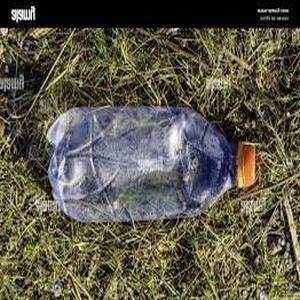Plastic: (47, 102, 256, 229)
